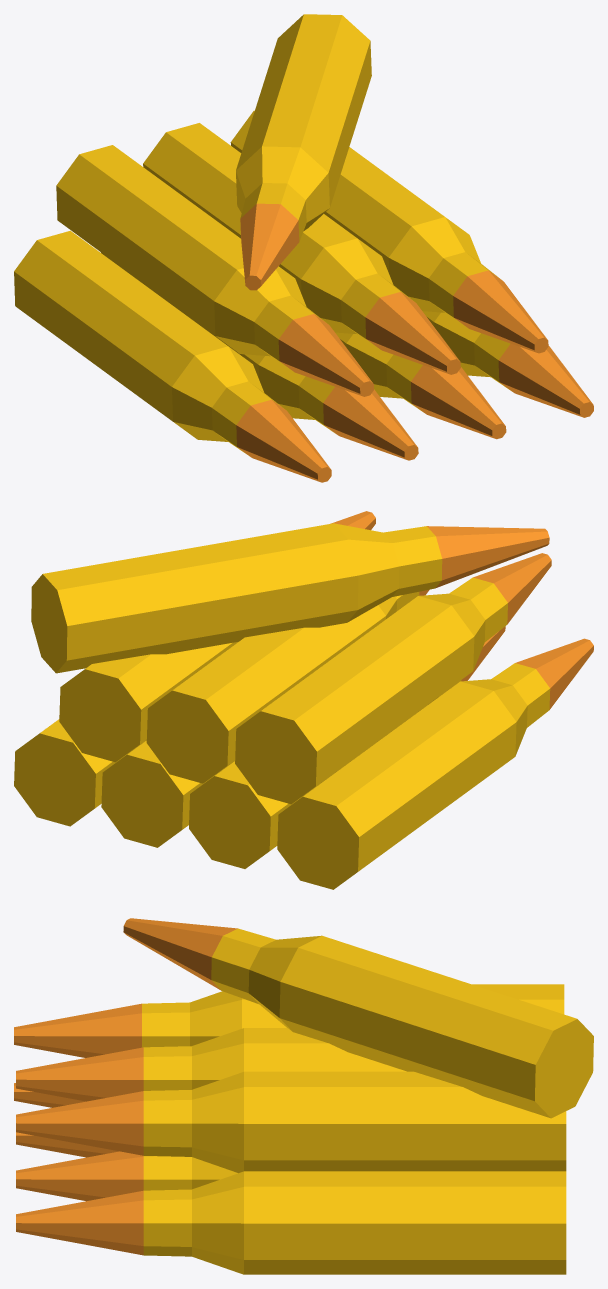
File: RifleAmmo_3D.glb
3 views of the same model, one above another, from view 1: azimuth 30°, elevation 25°; view 2: azimuth 150°, elevation 25°; view 3: azimuth 270°, elevation 25° (orthographic). The views are drawn at different scales.
Visible parts, largest first — view 1: rifleAmmoPack; view 2: rifleAmmoPack; view 3: rifleAmmoPack.
Boxes of the visible parts, bbox=[...] form: rifleAmmoPack: bbox=[14, 14, 593, 482]; rifleAmmoPack: bbox=[14, 511, 593, 889]; rifleAmmoPack: bbox=[14, 918, 593, 1274].
Bounding box in the file's own units: 0.0703 × 0.0468 × 0.1002.
Materials: 1 (1 with a texture image).
